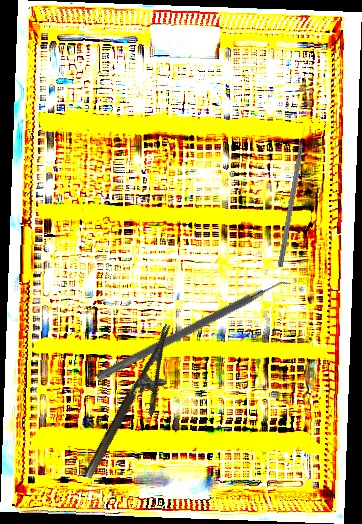Hook Surgical: (277, 125, 310, 268)
Needle Holder: (82, 322, 195, 491)
Spatula Surgical: (95, 272, 294, 390)
